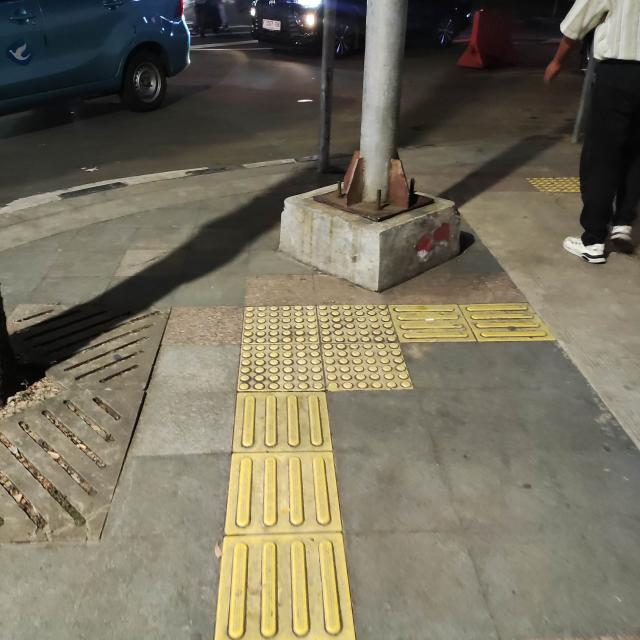kanan: (220, 279, 500, 444)
